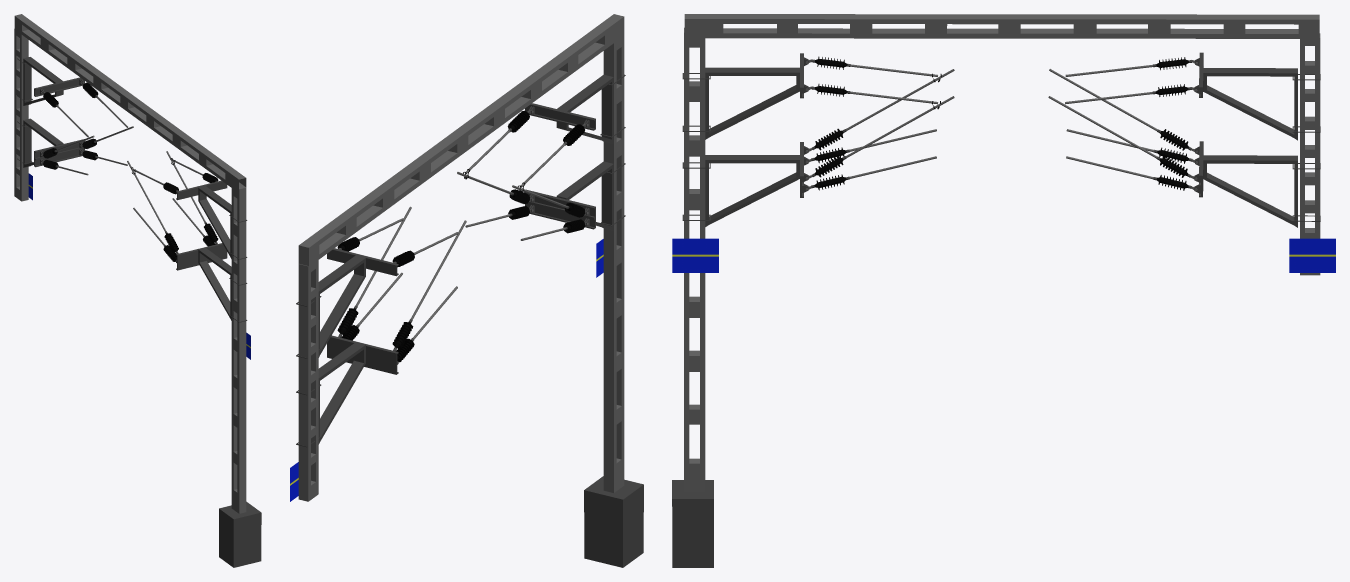
The model's file is SquareElectric2-transformed.glb.
3 renders of one model, left to right at view 1: azimuth 30°, elevation 25°; view 2: azimuth 150°, elevation 25°; view 3: azimuth 270°, elevation 25°, orthographic. The views are drawn at different scales.
Parts seen in each view (by area): view 1: electric pole 1.011, electric pole 1.013, electric pole 1.012, electric pole 1.023, electric pole 1.021, electric pole 1.025, electric pole 1.028, electric pole 1.018, electric pole 1.019, electric pole 1.027, electric pole 1.022, electric pole 1.024; view 2: electric pole 1.013, electric pole 1.011, electric pole 1.023, electric pole 1.012, electric pole 1.025, electric pole 1.021, electric pole 1.028, electric pole 1.018, electric pole 1.027, electric pole 1.019, electric pole 1.024, electric pole 1.022; view 3: electric pole 1.013, electric pole 1.011, electric pole 1.025, electric pole 1.021, electric pole 1.012, electric pole 1.023, electric pole 1.022, electric pole 1.024, Plane, Plane001, electric pole 1.027, electric pole 1.019.
Part boxes in pixels (left/top/right/bottom): electric pole 1.011: left=231, top=182, right=246, bottom=513; electric pole 1.013: left=14, top=14, right=246, bottom=192; electric pole 1.012: left=219, top=501, right=261, bottom=567; electric pole 1.023: left=14, top=29, right=28, bottom=201; electric pole 1.021: left=198, top=186, right=231, bottom=320; electric pole 1.025: left=23, top=57, right=63, bottom=167; electric pole 1.028: left=34, top=77, right=85, bottom=167; electric pole 1.018: left=176, top=180, right=227, bottom=270; electric pole 1.019: left=163, top=173, right=218, bottom=261; electric pole 1.027: left=43, top=82, right=98, bottom=169; electric pole 1.022: left=127, top=151, right=217, bottom=253; electric pole 1.024: left=43, top=82, right=133, bottom=175; electric pole 1.013: left=298, top=14, right=624, bottom=266; electric pole 1.011: left=603, top=30, right=624, bottom=492; electric pole 1.023: left=298, top=260, right=318, bottom=501; electric pole 1.012: left=584, top=476, right=643, bottom=567; electric pole 1.025: left=318, top=255, right=365, bottom=444; electric pole 1.021: left=556, top=74, right=613, bottom=230; electric pole 1.028: left=327, top=248, right=398, bottom=374; electric pole 1.018: left=524, top=103, right=595, bottom=229; electric pole 1.027: left=337, top=237, right=414, bottom=362; electric pole 1.019: left=507, top=110, right=585, bottom=233; electric pole 1.024: left=339, top=206, right=466, bottom=350; electric pole 1.022: left=457, top=110, right=585, bottom=240; electric pole 1.013: left=684, top=14, right=1319, bottom=38; electric pole 1.011: left=684, top=27, right=705, bottom=491; electric pole 1.025: left=1203, top=68, right=1297, bottom=227; electric pole 1.021: left=705, top=67, right=799, bottom=226; electric pole 1.012: left=672, top=480, right=713, bottom=567; electric pole 1.023: left=1300, top=33, right=1320, bottom=275; electric pole 1.022: left=808, top=59, right=954, bottom=189; electric pole 1.024: left=1048, top=60, right=1195, bottom=189; Plane: left=672, top=238, right=718, bottom=272; Plane001: left=1289, top=238, right=1335, bottom=272; electric pole 1.027: left=1155, top=57, right=1189, bottom=190; electric pole 1.019: left=814, top=56, right=847, bottom=190.
Bounding box in the file's own units: 1.39 × 10.05 × 11.16.
4 materials, 4 textured.
